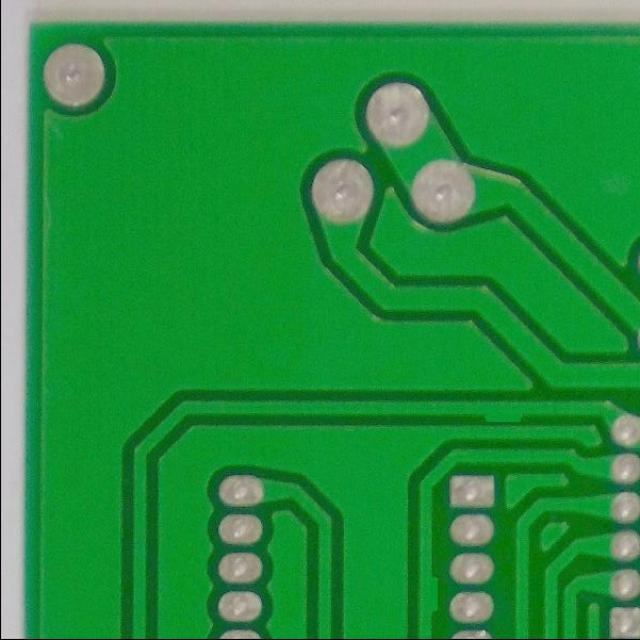Spur: (408, 565, 445, 621), (473, 393, 533, 426)
